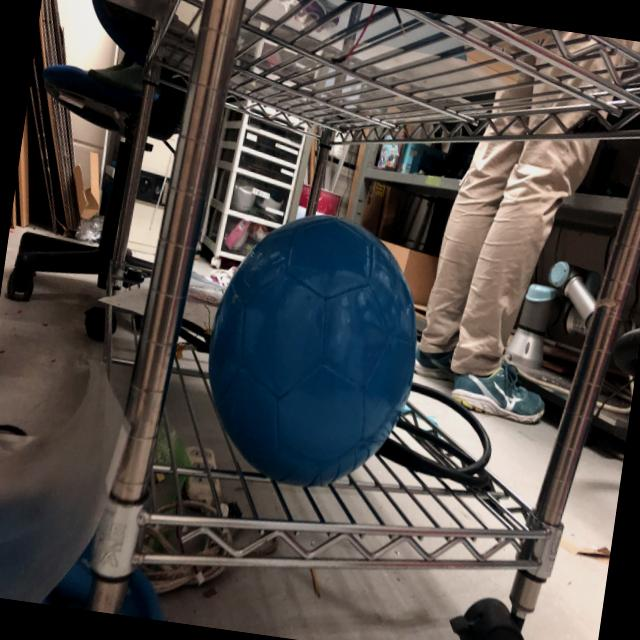blue_ball: (187, 203, 436, 502)
